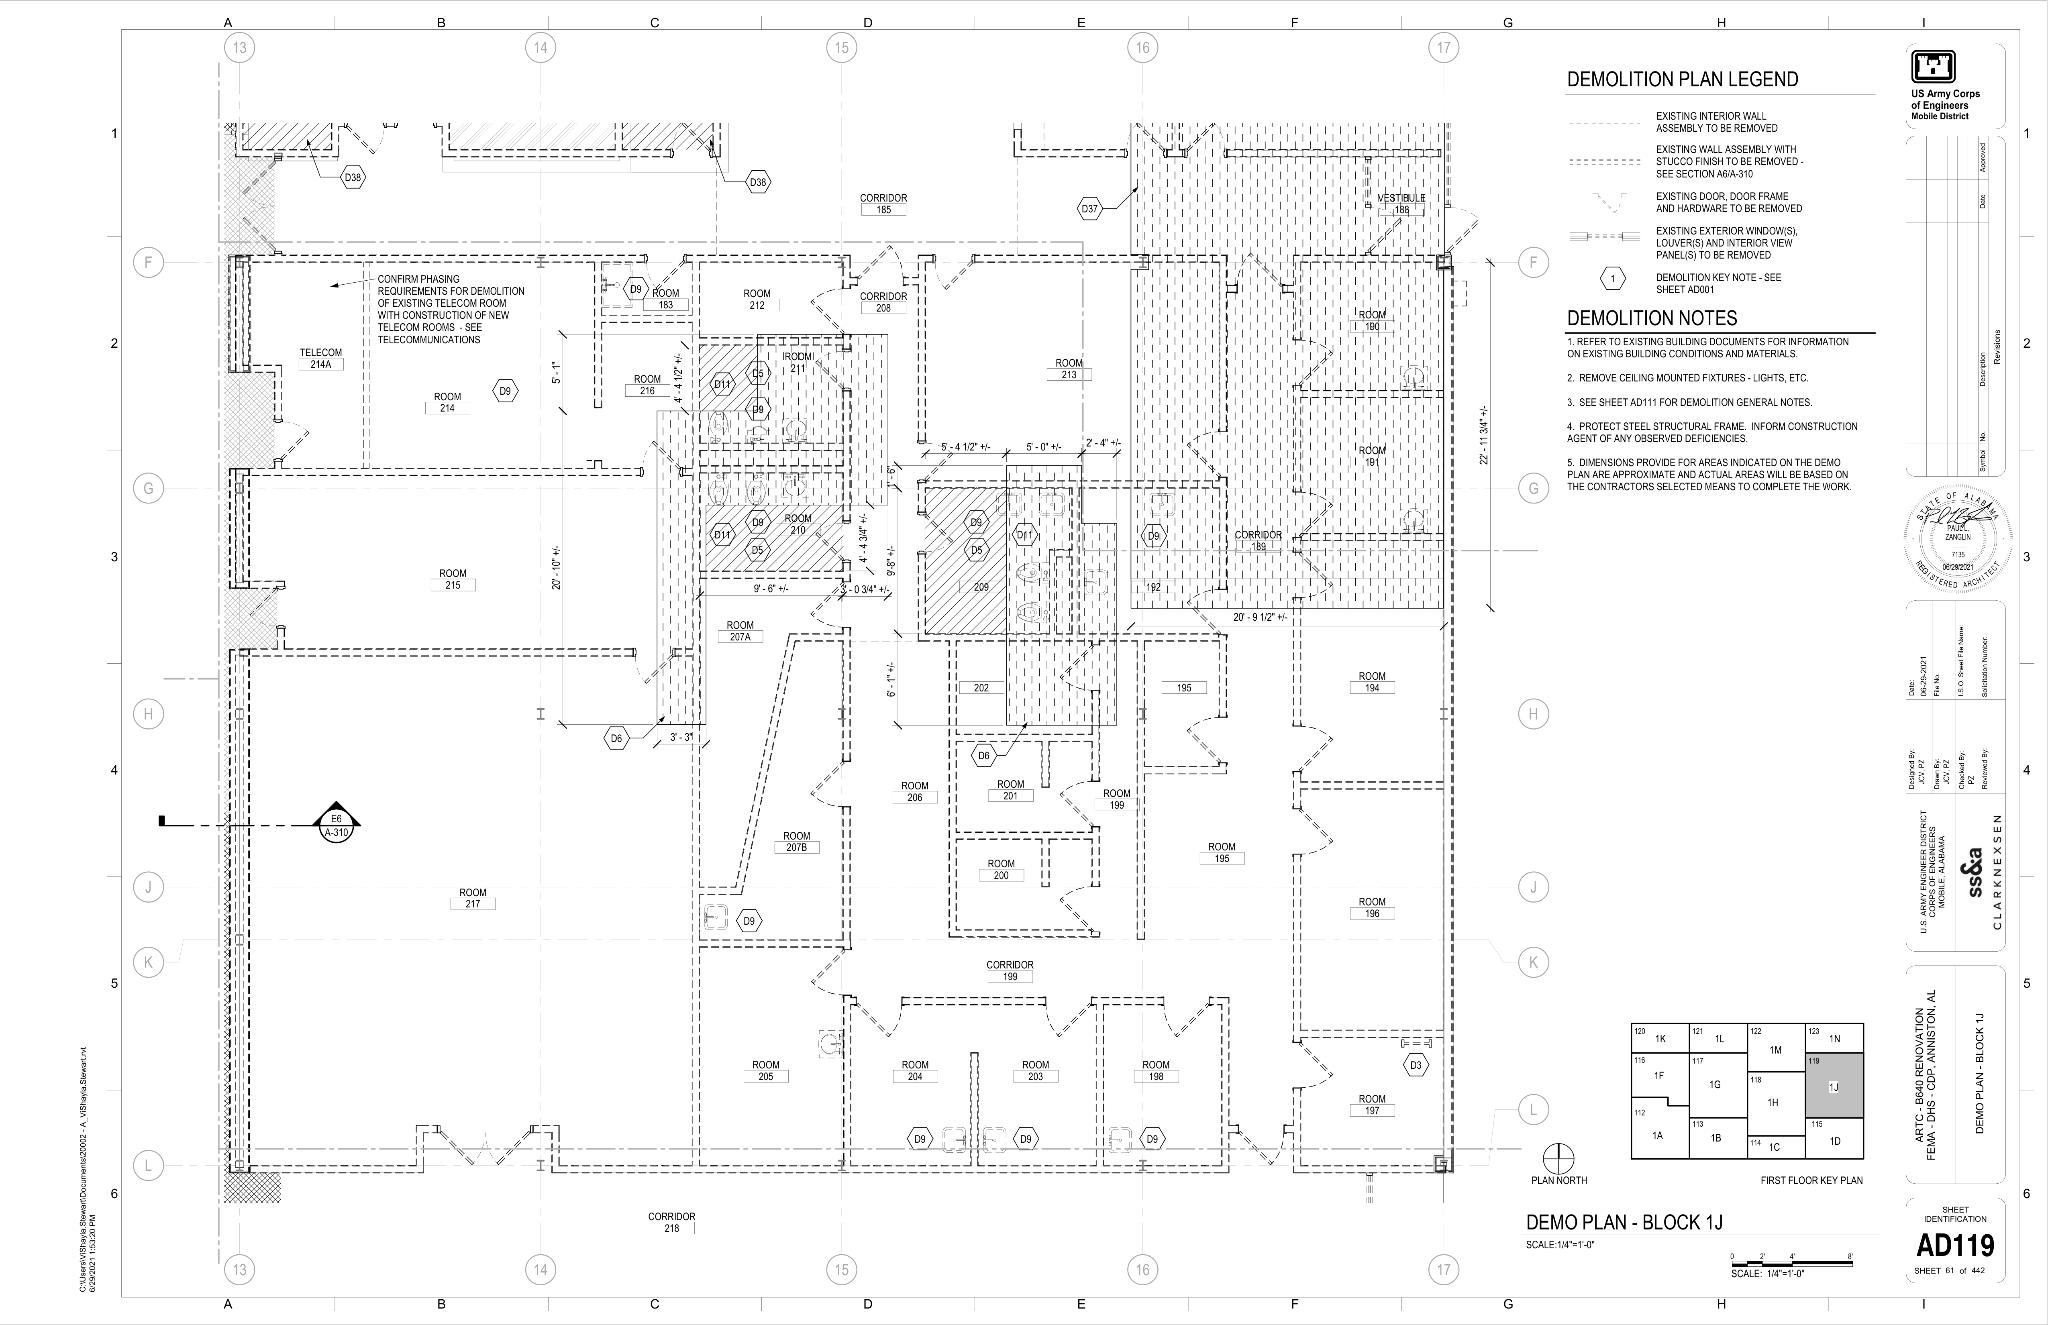elevation: (146, 797, 367, 848)
title: (1520, 1213, 1884, 1250)
